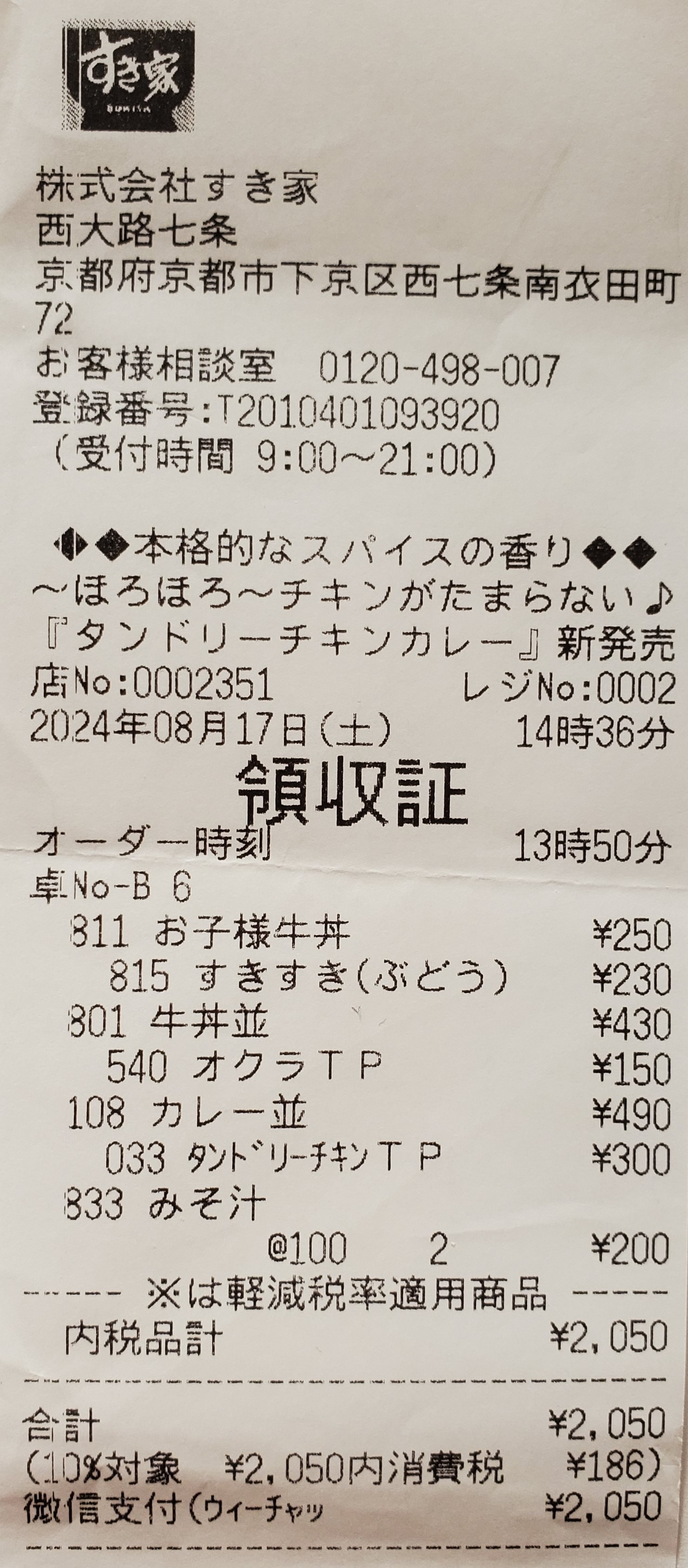Date: (27, 699, 317, 757)
Shopname: (41, 16, 224, 151)
Telnum: (313, 337, 575, 395)
Totalpay: (18, 1389, 684, 1445)
